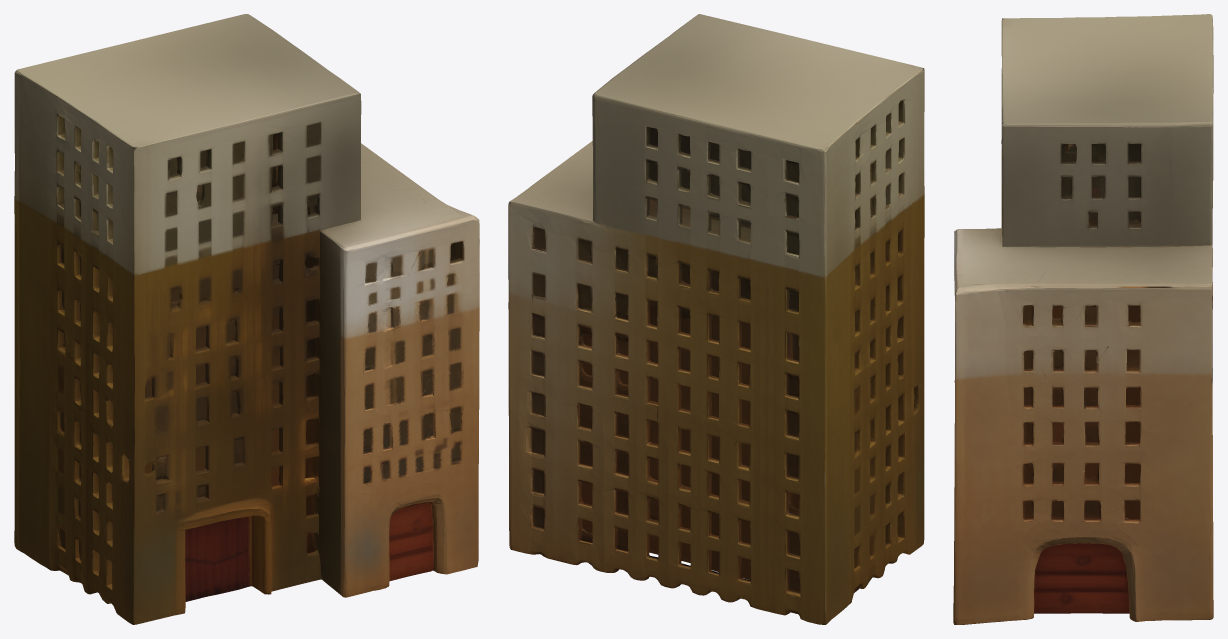
The model's file is Home1.glb.
3 renders of one model, left to right at view 1: azimuth 30°, elevation 25°; view 2: azimuth 150°, elevation 25°; view 3: azimuth 270°, elevation 25°, orthographic. The views are drawn at different scales.
Visible parts, largest first — view 1: world; view 2: world; view 3: world.
Part boxes in pixels (x1,y1,x2,y2): world: [14, 14, 479, 624]; world: [508, 14, 924, 624]; world: [953, 14, 1213, 624].
Bounding box in the file's own units: 0.7256 × 1 × 0.515.
Materials: 1 (1 with a texture image).
